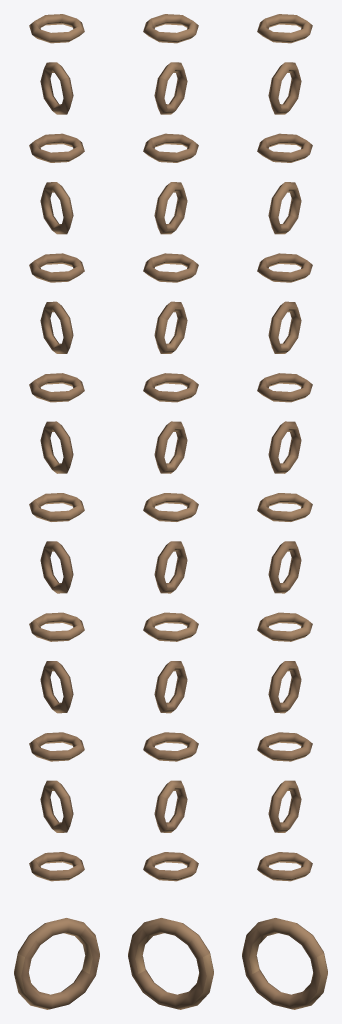
The model's file is Chain_Hang.glb.
3 renders of one model, left to right at view 1: azimuth 30°, elevation 25°; view 2: azimuth 150°, elevation 25°; view 3: azimuth 330°, elevation 25°, orthographic.
Visible parts, largest first — view 1: Chain_Hang; view 2: Chain_Hang; view 3: Chain_Hang.
Boxes of the visible parts, box(x1,y1,x2,y2) form: Chain_Hang: box(14, 14, 99, 1009); Chain_Hang: box(128, 14, 213, 1009); Chain_Hang: box(242, 14, 327, 1009).
Size of the model in its own units: 0.6 by 6.58 by 0.35.
